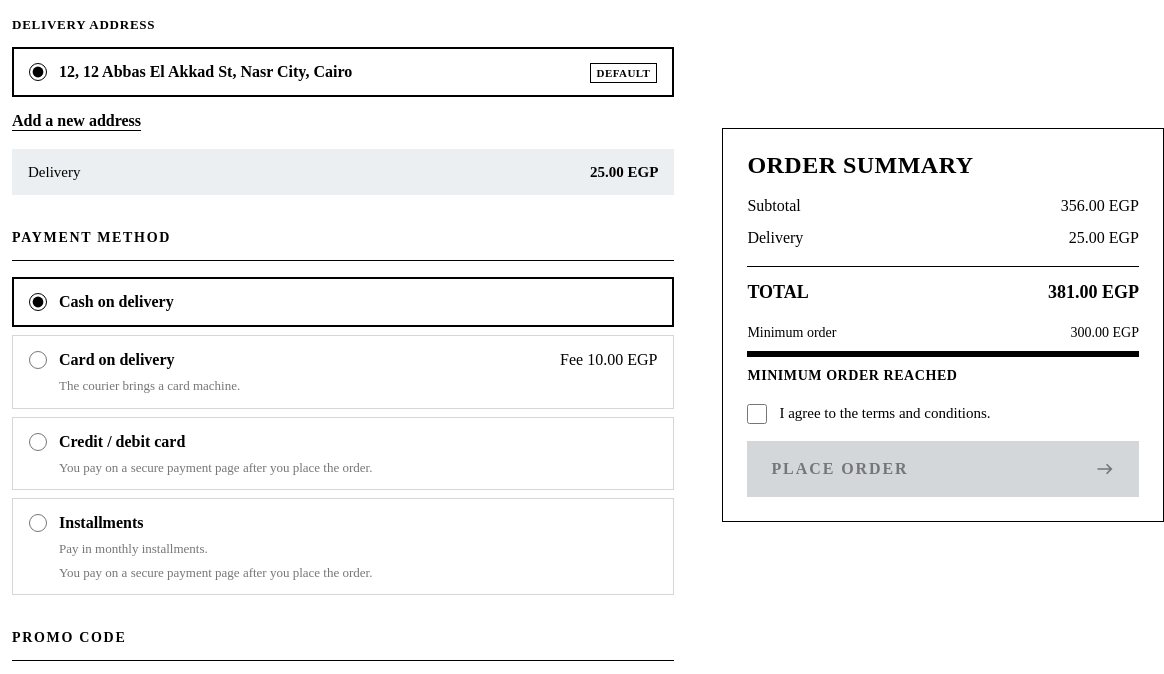
Test case: CheckoutView: changing a choice › runs changes in order, each on top of the previous answer
This screenshot has width=1164, height=674.
(page scrolled)
Click the 3rd radio button at (38, 360), box [29,351,47,369]
(page scrolled)
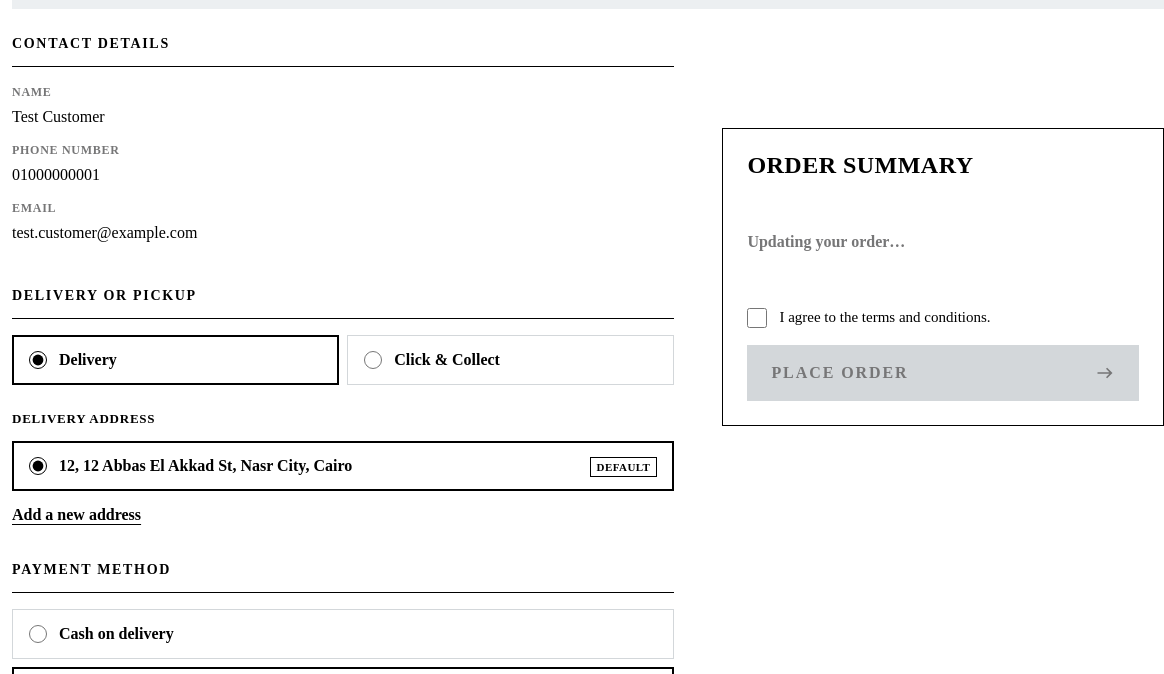
Click the radio button labelled "Click & Collect" at (373, 360), box [364,351,382,369]
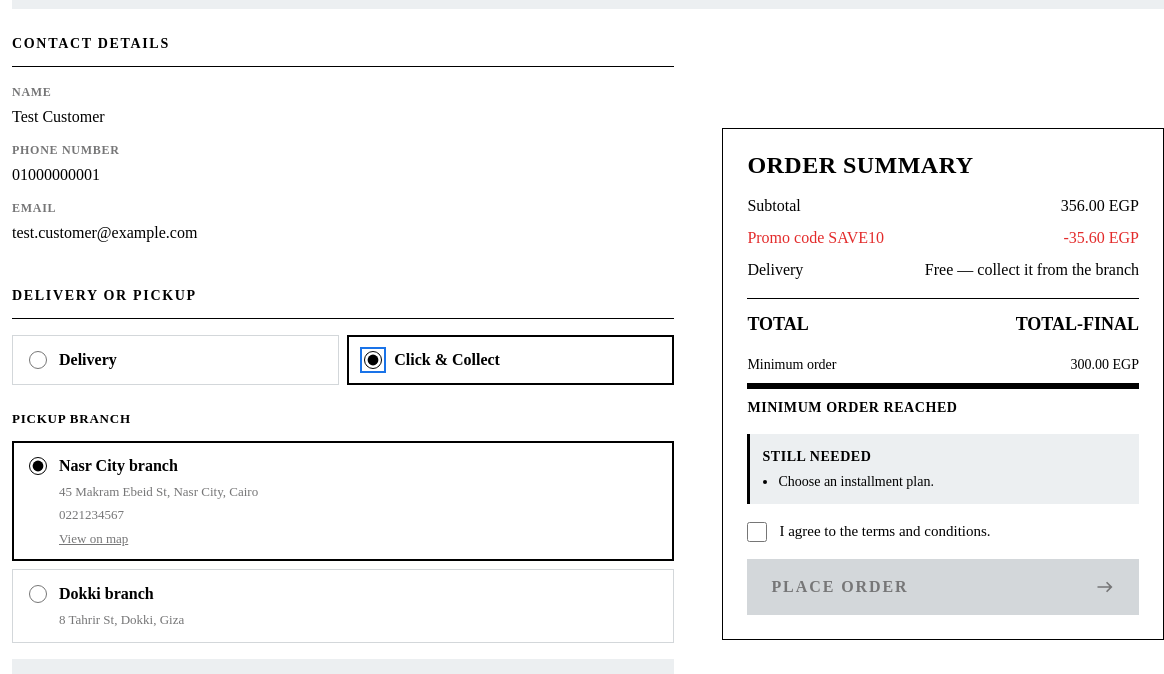
Expected: the text with test id "checkout-total" reads "TOTAL-FINAL", [1016,314,1139,334]
